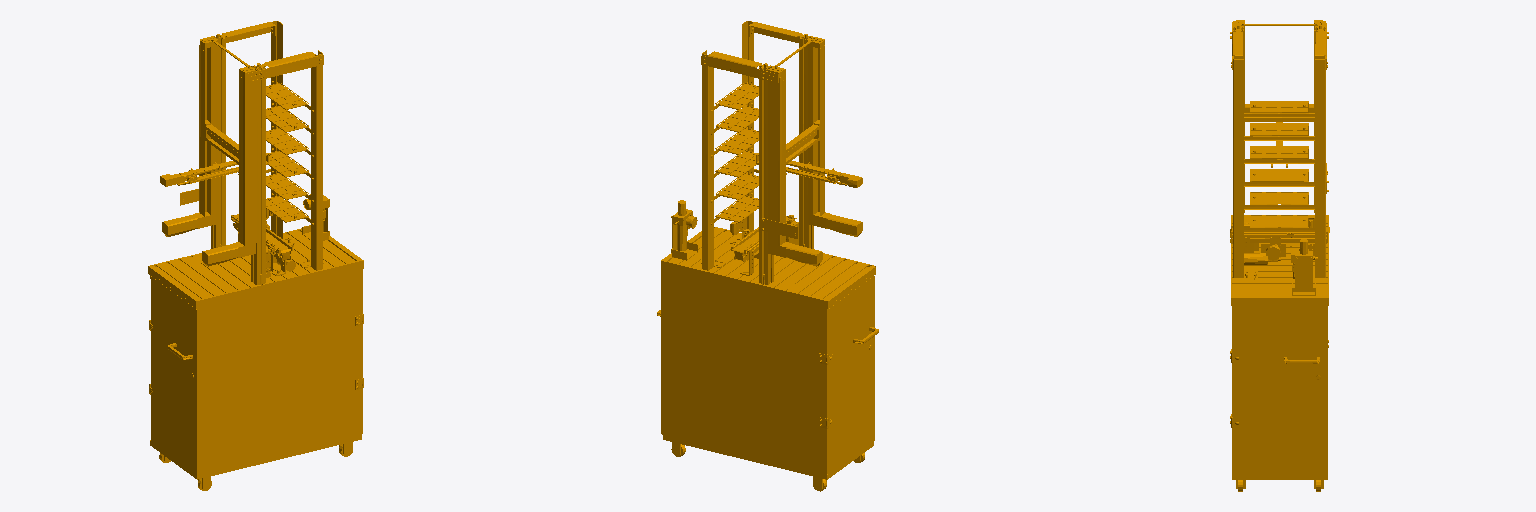
robot.urdf — machine:
<?xml version="1.0"?>
<!-- =================================================================================== -->
<!-- |    This document was autogenerated by xacro from robotino3_description.urdf.xacro | -->
<!-- |    EDITING THIS FILE BY HAND IS NOT RECOMMENDED                                 | -->
<!-- =================================================================================== -->
<robot name="machine">
  <!-- base_link -->
  <link name="machine_storage/base_link">
    <visual>
      <origin rpy="0 0 1.570795" xyz="-0.350 0.175 0.0"/>
      <geometry>
        <mesh filename="package://mpss_description/meshes/mps_storage/meshes/mps_storage.dae" scale="1.0 1.0 1.0"/>
      </geometry>
    </visual>
    <collision>
      <origin rpy="0 0 0" xyz="0.0 0.0 0.4"/>
      <geometry>
        <box size="0.75 0.40 0.78"/>
      </geometry>
    </collision>
    <inertial>
      <mass value="80"/>
      <inertia ixx="1e-3" ixy="0.0" ixz="0.0" iyy="1e-3" iyz="0.0" izz="1e-3"/>
    </inertial>
  </link>
</robot>

--- What the picture shows (computed from the rendered views, not written in the file) ---
The picture shows the robot from 3 angles, left to right: view 1: azimuth 30°, elevation 25°; view 2: azimuth 150°, elevation 25°; view 3: azimuth 270°, elevation 25°; orthographic projection.
Robot: machine — 1 links, 0 joints (none); root link machine_storage/base_link; default pose: every joint at zero.
Links seen in each view (by area): view 1: machine_storage/base_link; view 2: machine_storage/base_link; view 3: machine_storage/base_link.
Boxes of the visible links, box(x1,y1,x2,y2) form: machine_storage/base_link: box(148, 21, 363, 490); machine_storage/base_link: box(657, 21, 878, 491); machine_storage/base_link: box(1230, 20, 1329, 491).
Size in the robot's own frame: 0.7746 by 0.3561 by 1.65 metres.
Meshes: 1 distinct files referenced, 1 mesh visuals loaded (1 Collada DAE).